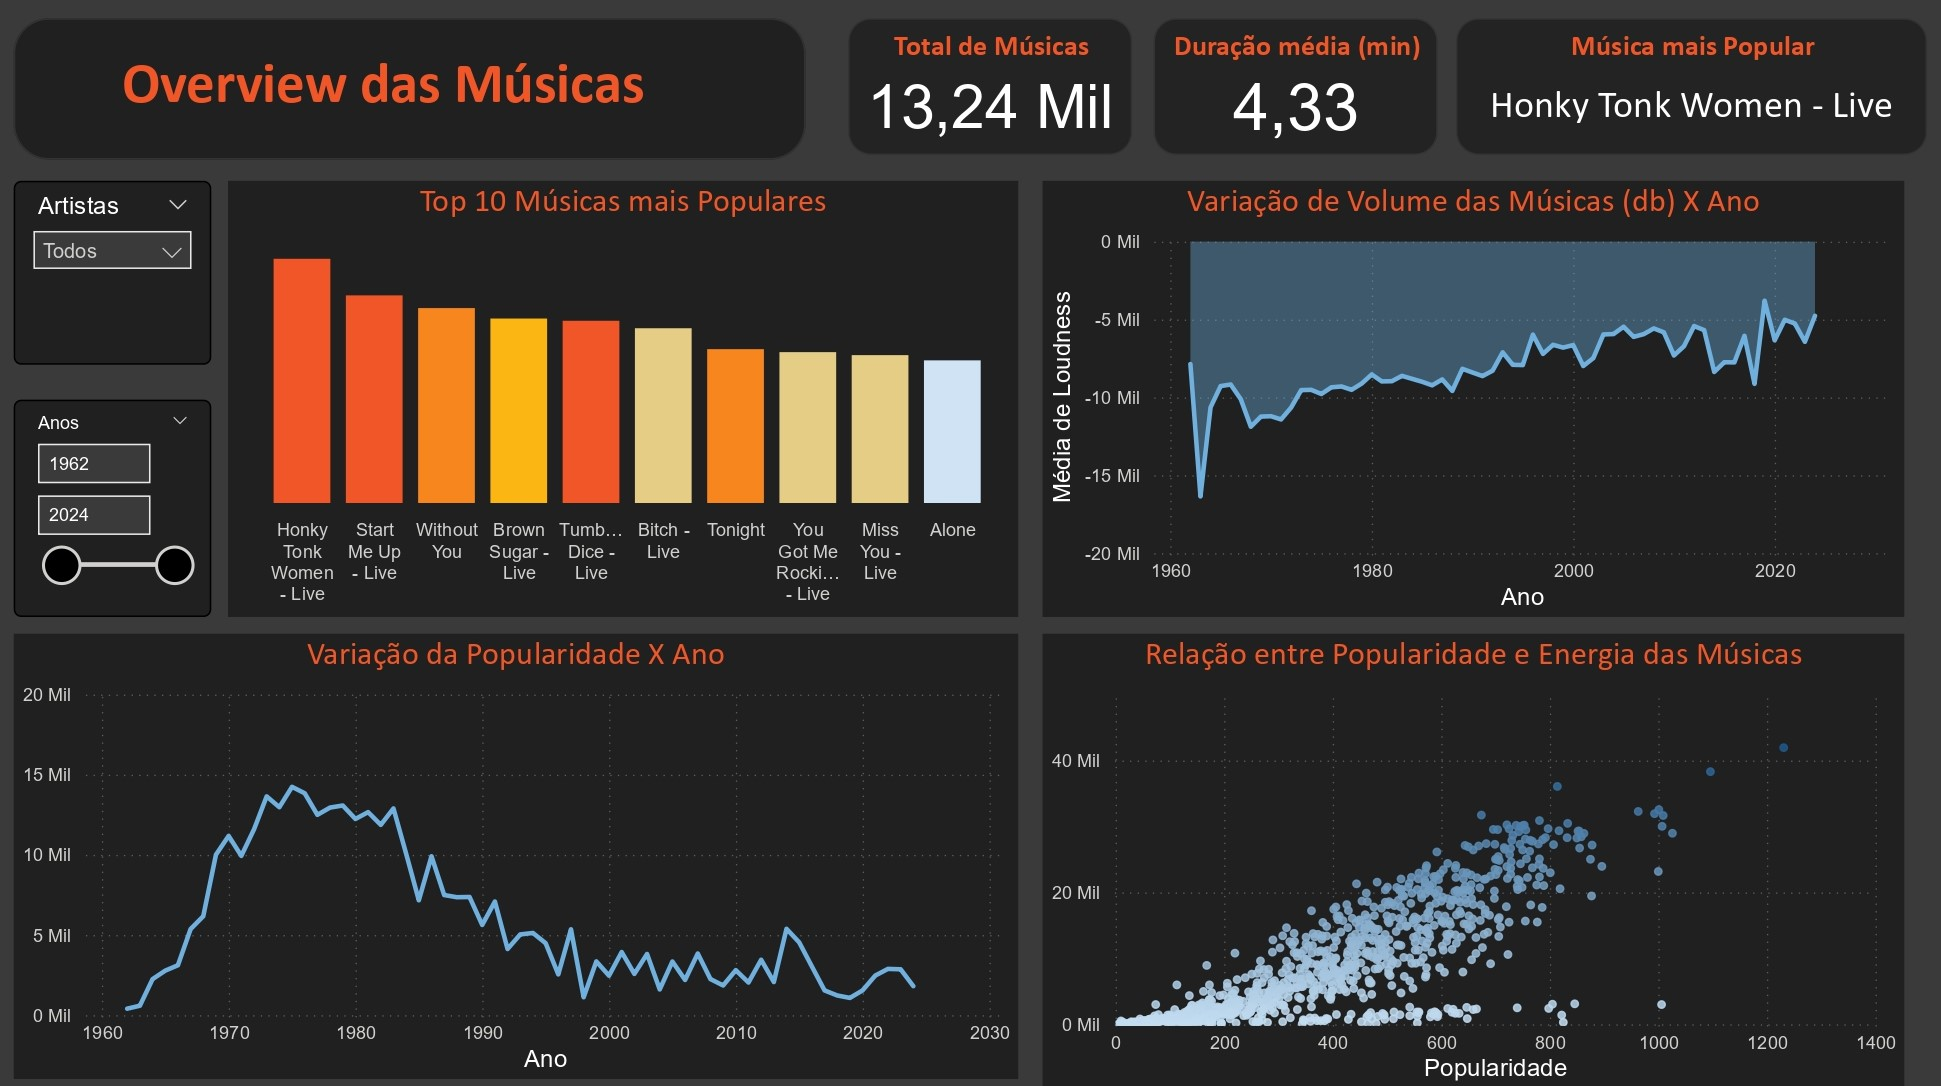

This screenshot's page, from the dashboard's own definition file:
{"tool":"powerbi","page":{"name":"Visão das Musicas","canvas":[1280,720],"ordinal":1},"visuals":[{"type":"shape","box":[10,15.7,521.4,92.9],"z":0},{"type":"card","title":"Total de Músicas","fields":{"Values":["Count(UltimateClassicRock.Track)"]},"box":[558.6,15.7,187.1,90],"z":1000},{"type":"textbox","box":[75.7,30,390,62.9],"z":2000},{"type":"card","title":"Duração média (min)","fields":{"Values":["UltimateClassicRock.DuracaoMediaMinutos"]},"box":[760,15.7,187.1,90],"z":3000},{"type":"card","title":"Música mais Popular","fields":{"Values":["UltimateClassicRock.MusicaMaisPopularSoma"]},"box":[958.6,15.7,310,90],"z":4000},{"type":"scatterChart","title":"Relação entre Popularidade e Energia das Músicas","fields":{"Category":["UltimateClassicRock.Energy"],"X":["Sum(UltimateClassicRock.Popularity)"],"Y":["Sum(UltimateClassicRock.Energy)"]},"box":[687.1,421.4,567.1,298.6],"z":5000},{"type":"lineChart","title":"Variação da Popularidade X Ano","fields":{"Category":["UltimateClassicRock.Year"],"Y":["Sum(UltimateClassicRock.Popularity)"]},"box":[10,421.4,661.4,292.9],"z":6000},{"type":"areaChart","title":"Variação de Volume das Músicas (db) X Ano","fields":{"Category":["UltimateClassicRock.Year"],"Y":["Avg(UltimateClassicRock.Loudness)"]},"box":[687.1,122.9,567.1,287.1],"z":7000},{"type":"columnChart","title":"Top 10 Músicas mais Populares","fields":{"Category":["UltimateClassicRock.Track"],"Y":["Sum(UltimateClassicRock.Popularity)"]},"box":[151.4,122.9,520,287.1],"z":8000},{"type":"slicer","fields":{"Values":["UltimateClassicRock.Artist"]},"box":[10,122.9,130,121.4],"z":9000},{"type":"slicer","fields":{"Values":["UltimateClassicRock.Year"]},"box":[10,267.1,130,142.9],"z":9001}]}

Visuals, with their boxes in screenshot pixels (x1, y1, x2, y2), scaled from the page's 1280x720 canvas onto the 1941x1086 screenshot:
shape: region(15, 24, 806, 164)
"Total de Músicas" card: region(847, 24, 1131, 159)
textbox: region(115, 45, 706, 140)
"Duração média (min)" card: region(1152, 24, 1436, 159)
"Música mais Popular" card: region(1454, 24, 1924, 159)
"Relação entre Popularidade e Energia das Músicas" scatterChart: region(1042, 636, 1902, 1085)
"Variação da Popularidade X Ano" lineChart: region(15, 636, 1018, 1077)
"Variação de Volume das Músicas (db) X Ano" areaChart: region(1042, 185, 1902, 618)
"Top 10 Músicas mais Populares" columnChart: region(230, 185, 1018, 618)
slicer - UltimateClassicRock.Artist: region(15, 185, 212, 368)
slicer - UltimateClassicRock.Year: region(15, 403, 212, 618)
